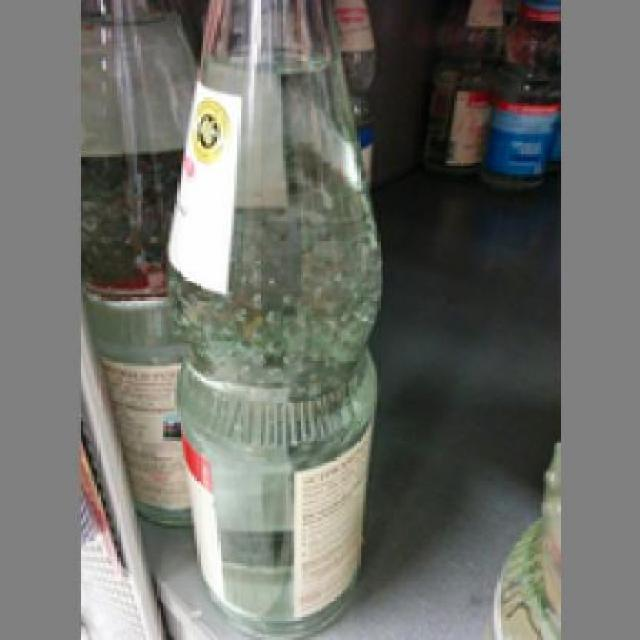Water: (160, 0, 389, 623)
